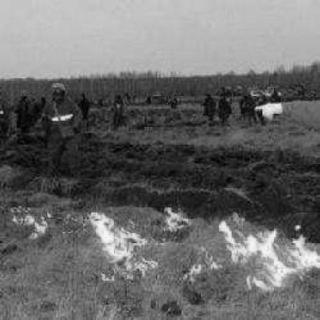Fire: (13, 193, 313, 300)
